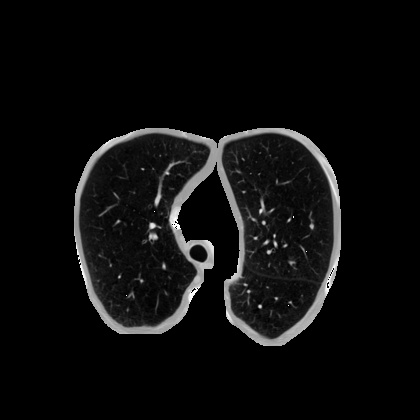PN: (308, 222, 316, 230)
